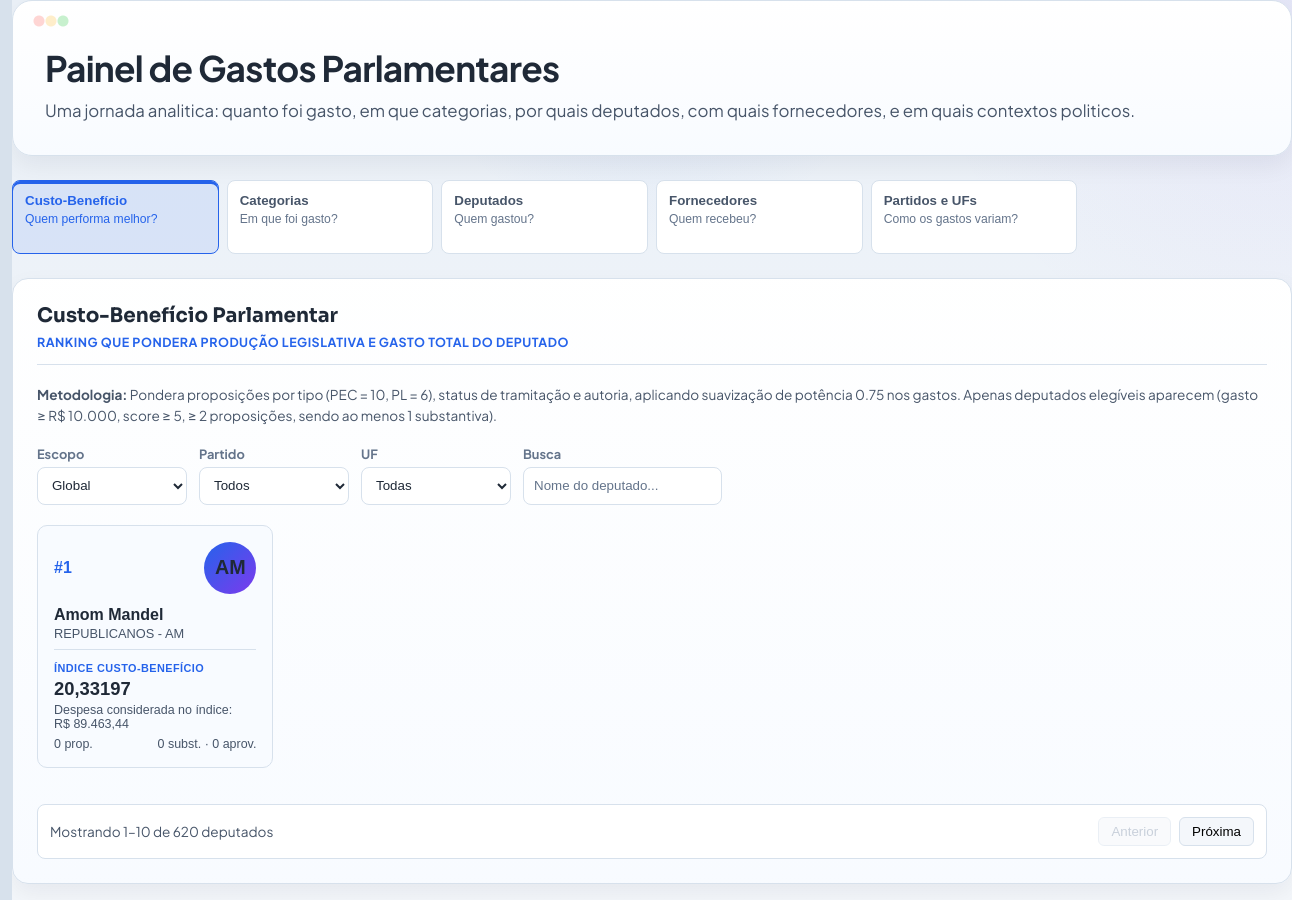
Test: filters categories locally in the categorias tab
This screenshot has width=1292, height=900.
Click the button named "CategoriasEm que foi gasto" at (330, 217), box [227,180,433,254]
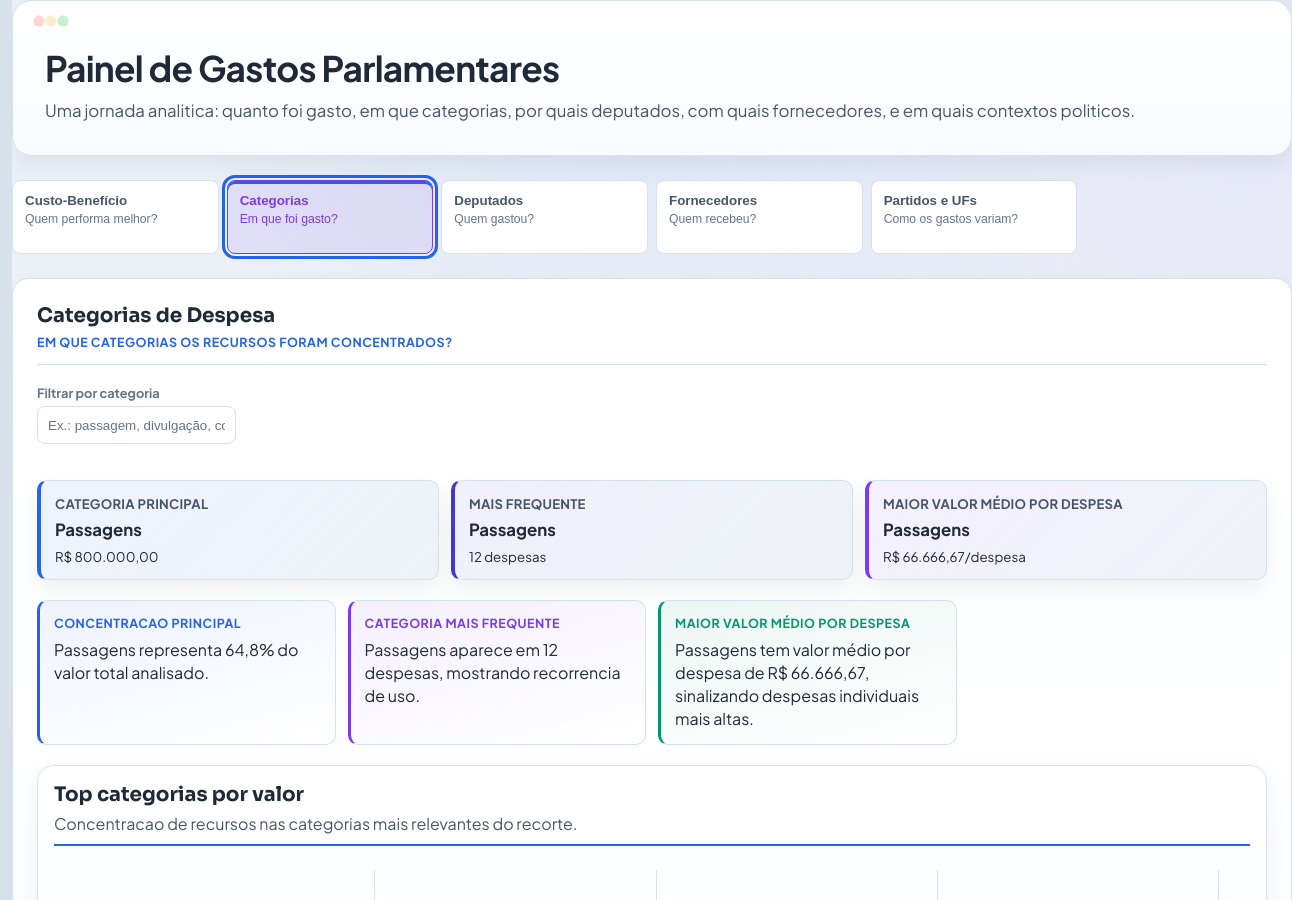
Type "combustivel" into the field with placeholder "Ex.: passagem, divulgação, combustível" at (136, 425), box [37,406,236,444]
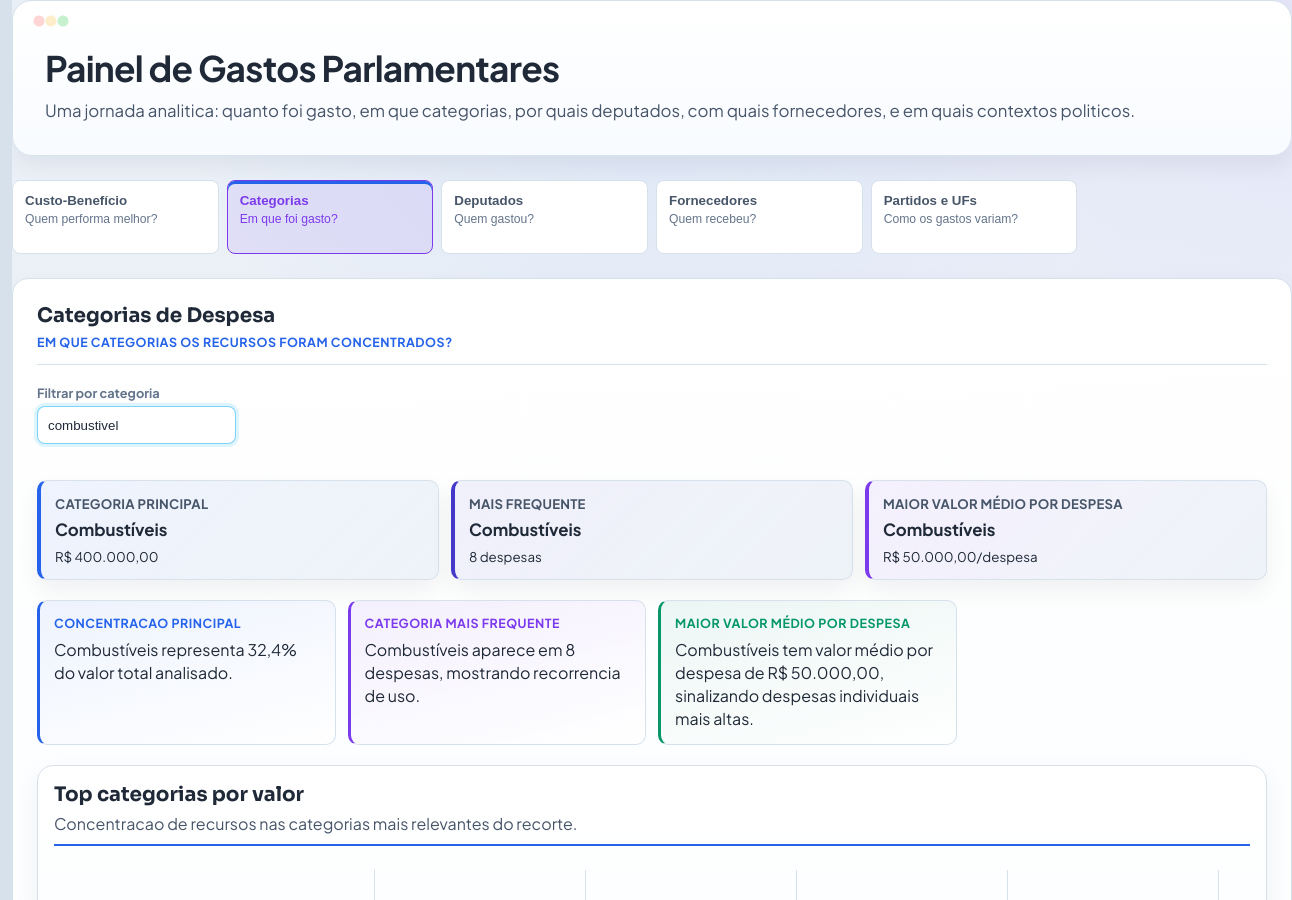
Expected: the text "Combustíveis" below "Categoria Principal" is shown, [55,519,167,540]
Expected: the text "Passagens" is gone
